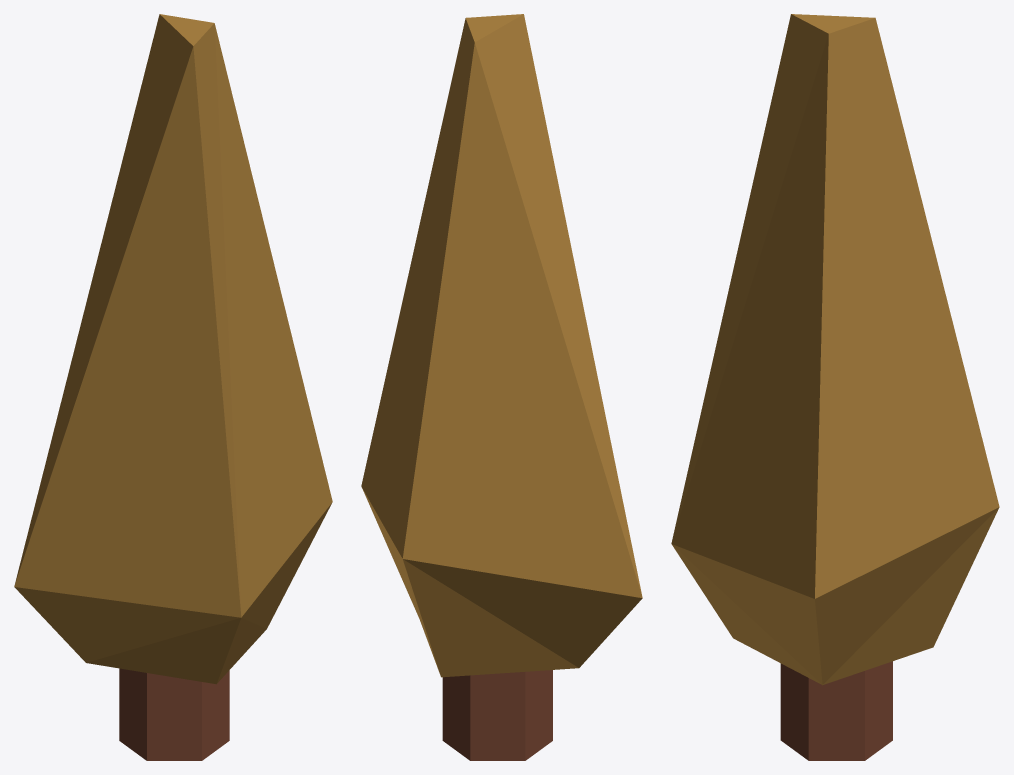
File: Bush_10_autumn_vc.fbx
The picture shows the model from 3 angles, left to right: view 1: azimuth 30°, elevation 25°; view 2: azimuth 150°, elevation 25°; view 3: azimuth 270°, elevation 25°; orthographic projection.
Visible parts, largest first — view 1: Bush_10_autumn_vc; view 2: Bush_10_autumn_vc; view 3: Bush_10_autumn_vc.
Boxes of the visible parts, <box> form: Bush_10_autumn_vc: <box>14,14,332,760</box>; Bush_10_autumn_vc: <box>361,14,642,760</box>; Bush_10_autumn_vc: <box>671,14,999,760</box>.
Bounding box in the file's own units: 38.13 × 86.43 × 35.48.
